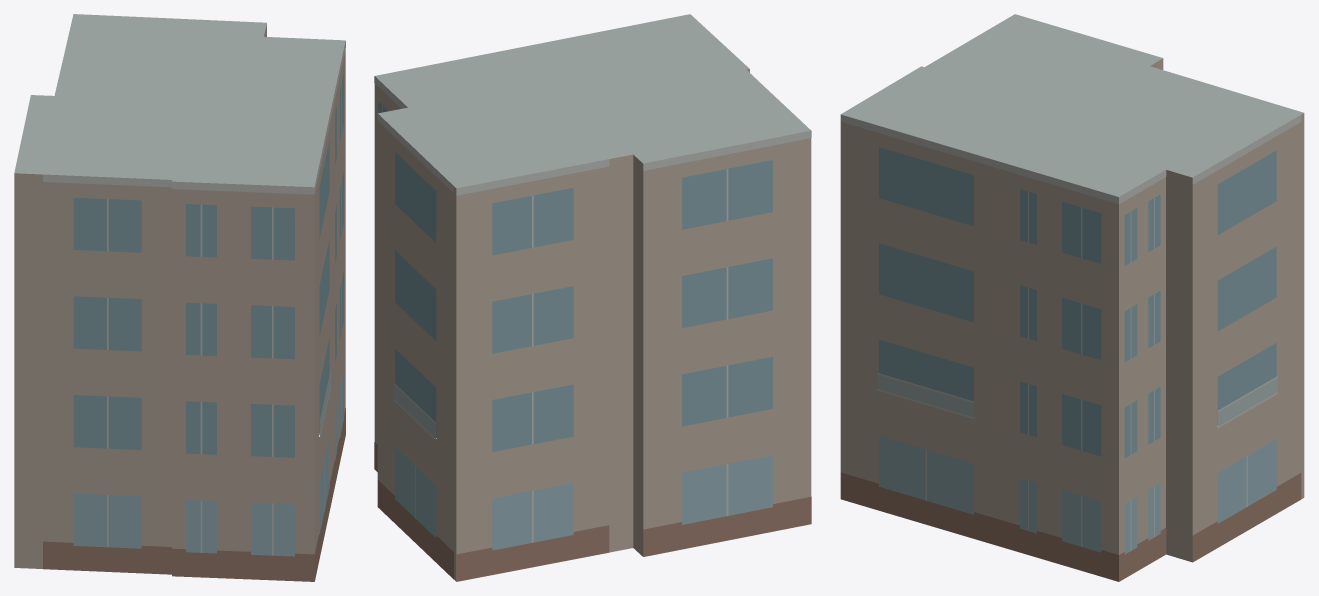
The model's file is survey-upis-32747257.glb.
The picture shows the model from 3 angles, left to right: view 1: azimuth 30°, elevation 25°; view 2: azimuth 150°, elevation 25°; view 3: azimuth 270°, elevation 25°; orthographic projection. The views are drawn at different scales.
Visible parts, largest first — view 1: survey-upis-32747257.tmp; view 2: survey-upis-32747257.tmp; view 3: survey-upis-32747257.tmp.
Part boxes in pixels (bbox=[...]): survey-upis-32747257.tmp: bbox=[14, 14, 345, 581]; survey-upis-32747257.tmp: bbox=[374, 14, 811, 581]; survey-upis-32747257.tmp: bbox=[840, 14, 1304, 581].
Bounding box in the file's own units: 13.22 × 12.95 × 14.16.
